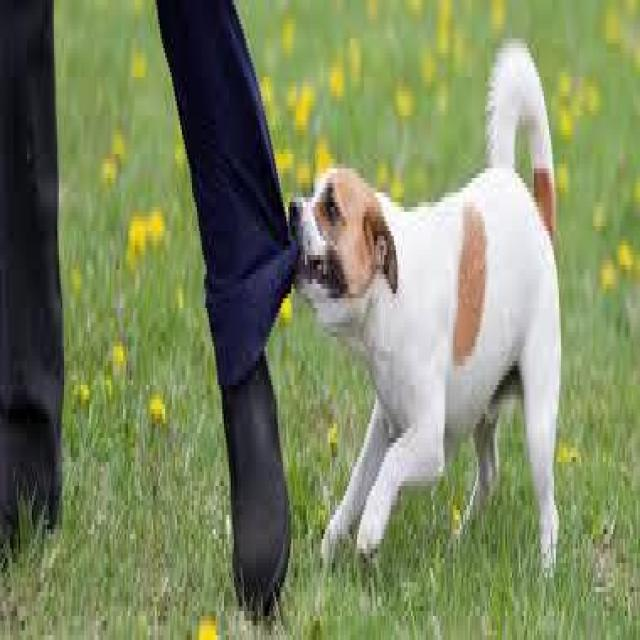Dog: (262, 41, 586, 597)
